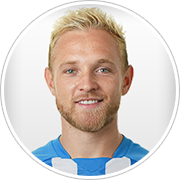smile: (75, 98, 105, 108)
